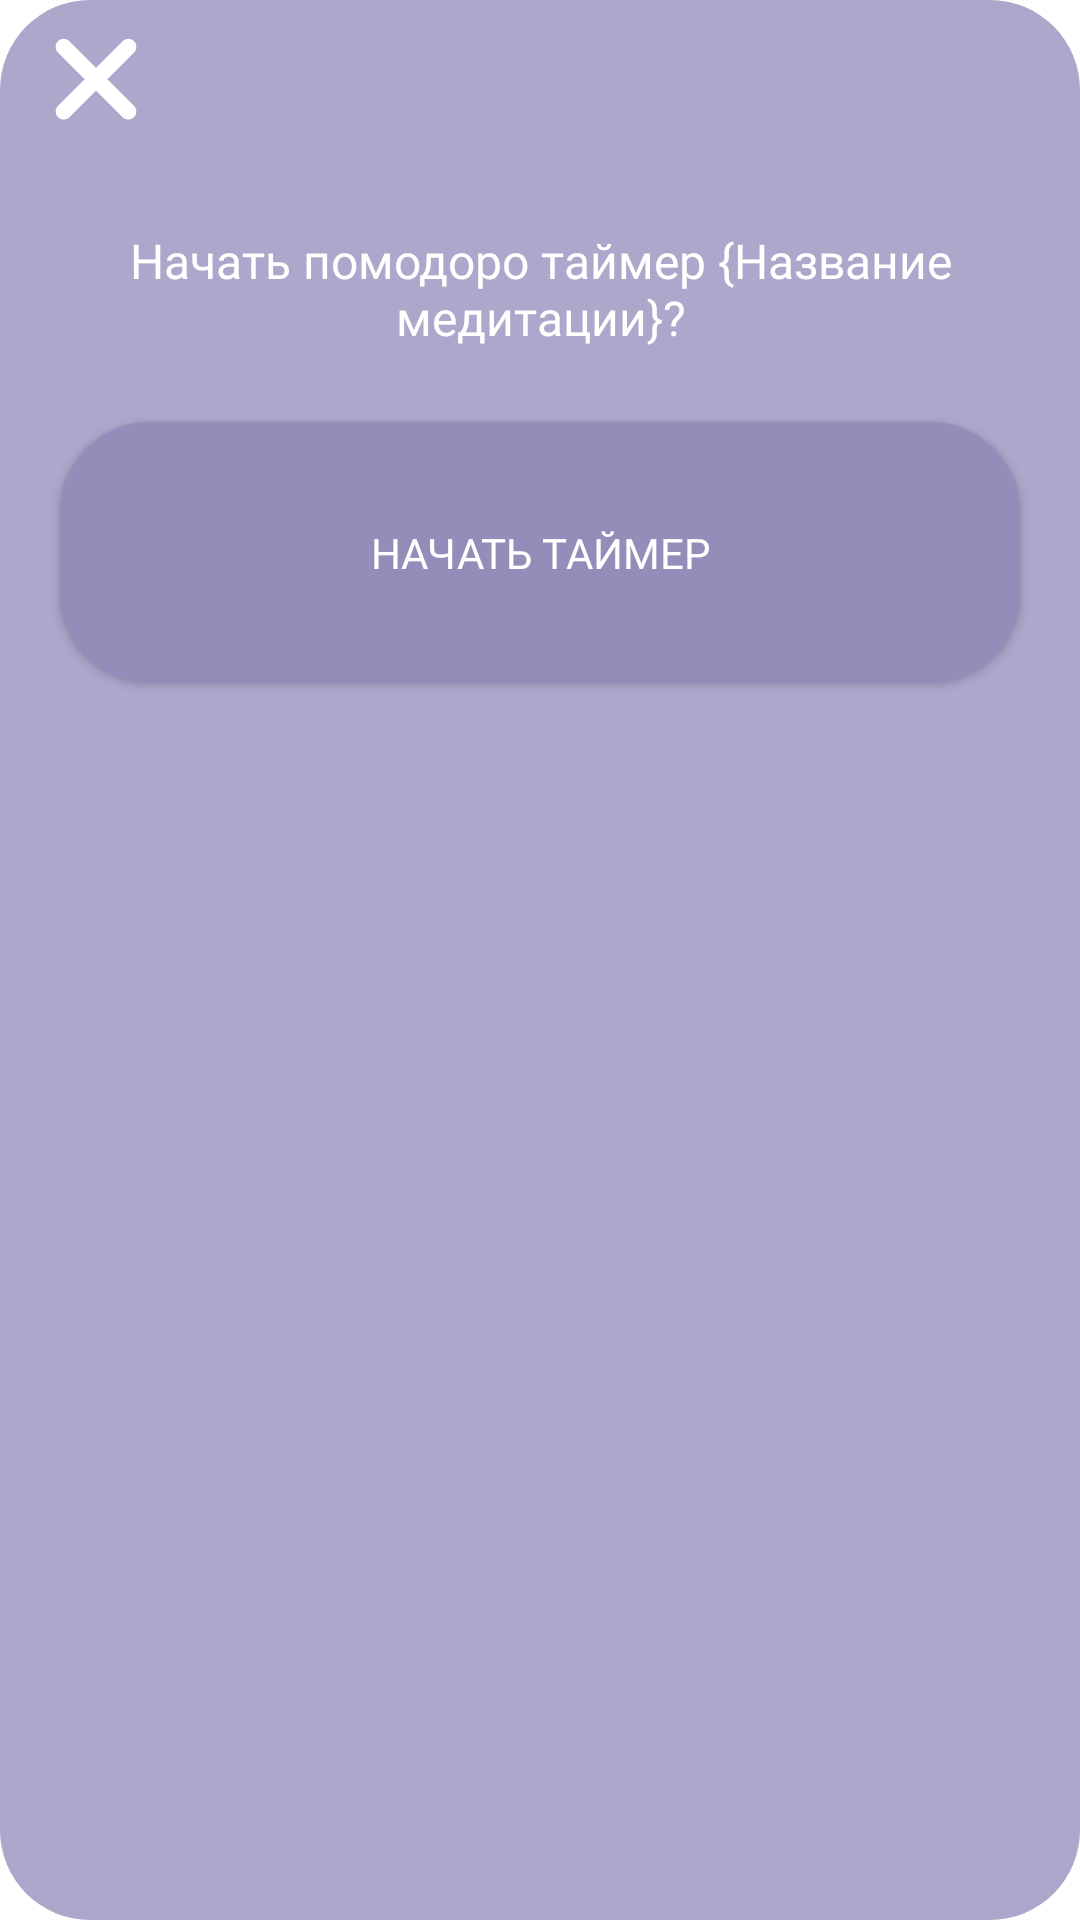

Screen size 1080px x 1920px. Icon name, then its box in pixels as Rect(x1, y1, x2, y2):
cross: Rect(55, 39, 136, 120)
